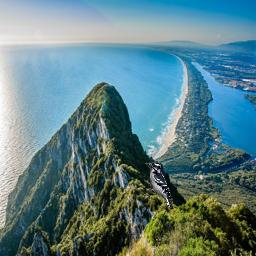Woodpecker: (145, 161, 173, 209)
